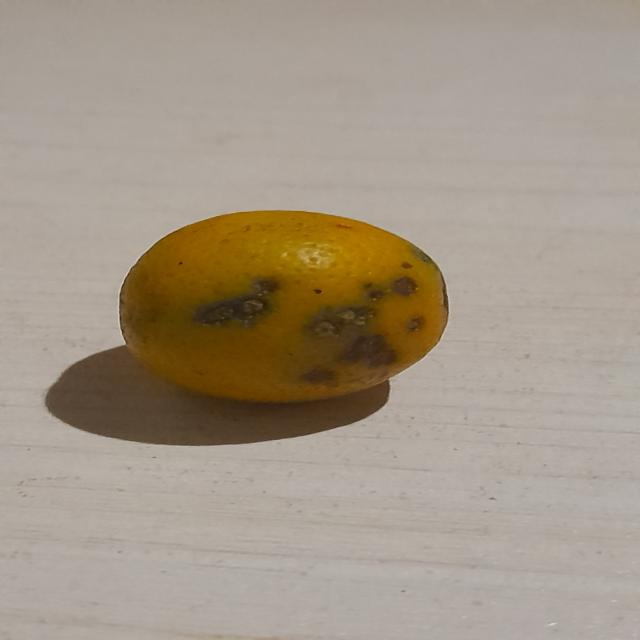black spot: (117, 209, 457, 408)
